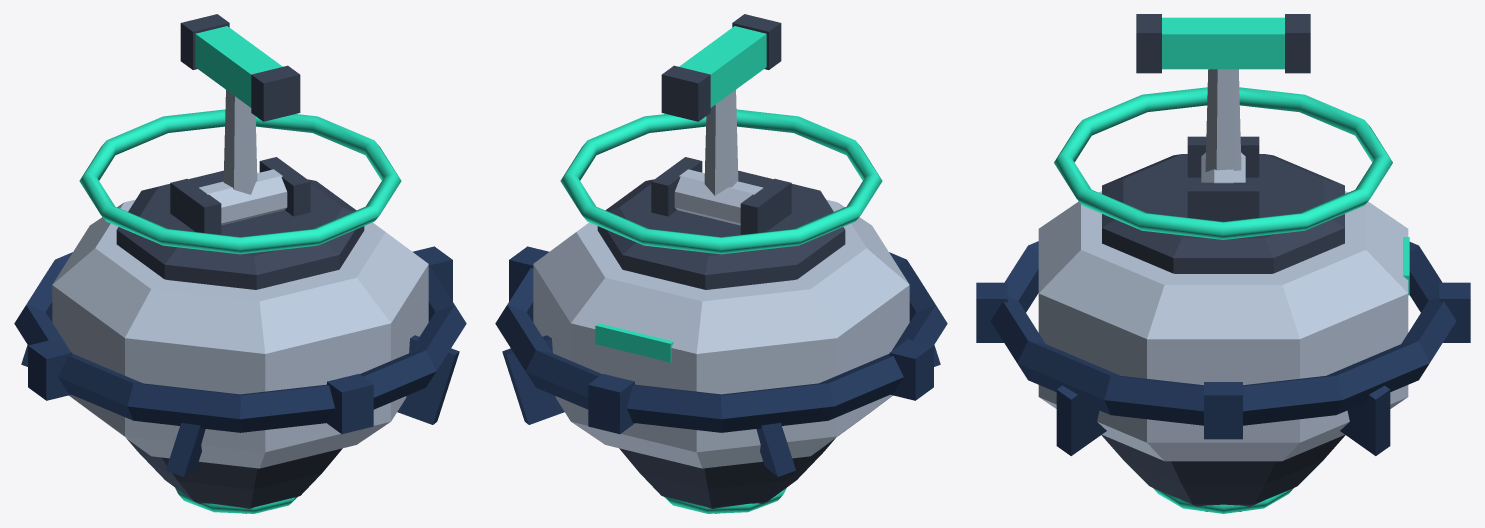
Rendered from AirProp_InputBeacon.obj.
3 views of the same model, side by side, from view 1: azimuth 30°, elevation 25°; view 2: azimuth 150°, elevation 25°; view 3: azimuth 270°, elevation 25° (orthographic). The views are drawn at different scales.
Parts seen in each view (by area): view 1: Input_Hull, Input_IdentityRing, Input_LeverPivot, Input_PulseHalo; view 2: Input_Hull, Input_IdentityRing, Input_LeverPivot, Input_PulseHalo; view 3: Input_Hull, Input_IdentityRing, Input_LeverPivot, Input_PulseHalo.
Boxes of the visible parts, x1,y1,x2,y2 form: Input_Hull: (21, 157, 459, 513); Input_IdentityRing: (14, 246, 466, 434); Input_LeverPivot: (180, 14, 300, 225); Input_PulseHalo: (79, 109, 401, 254); Input_Hull: (502, 157, 940, 513); Input_IdentityRing: (495, 246, 947, 434); Input_LeverPivot: (661, 14, 781, 225); Input_PulseHalo: (560, 109, 882, 254); Input_Hull: (1038, 136, 1409, 513); Input_IdentityRing: (976, 241, 1470, 439); Input_LeverPivot: (1136, 14, 1310, 183); Input_PulseHalo: (1054, 87, 1392, 239).
Size of the model in its own units: 0.865 by 0.909 by 0.865.
